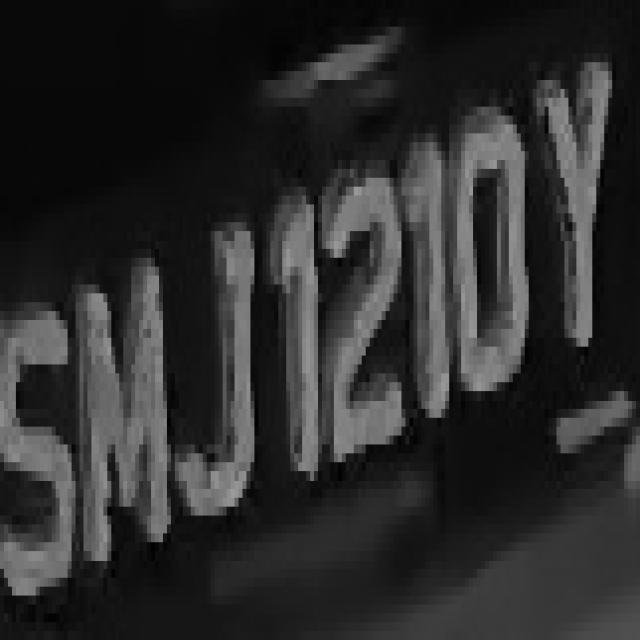0: (457, 80, 533, 409)
1: (262, 142, 334, 507), (398, 107, 457, 462)
2: (322, 98, 398, 489)
J: (179, 169, 266, 542)
M: (75, 222, 183, 587)
S: (16, 267, 79, 613)
Y: (533, 45, 616, 382)
